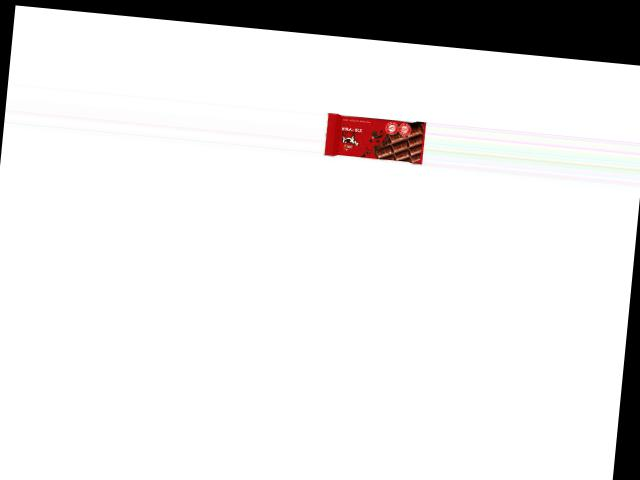chocolate: (322, 112, 426, 164)
